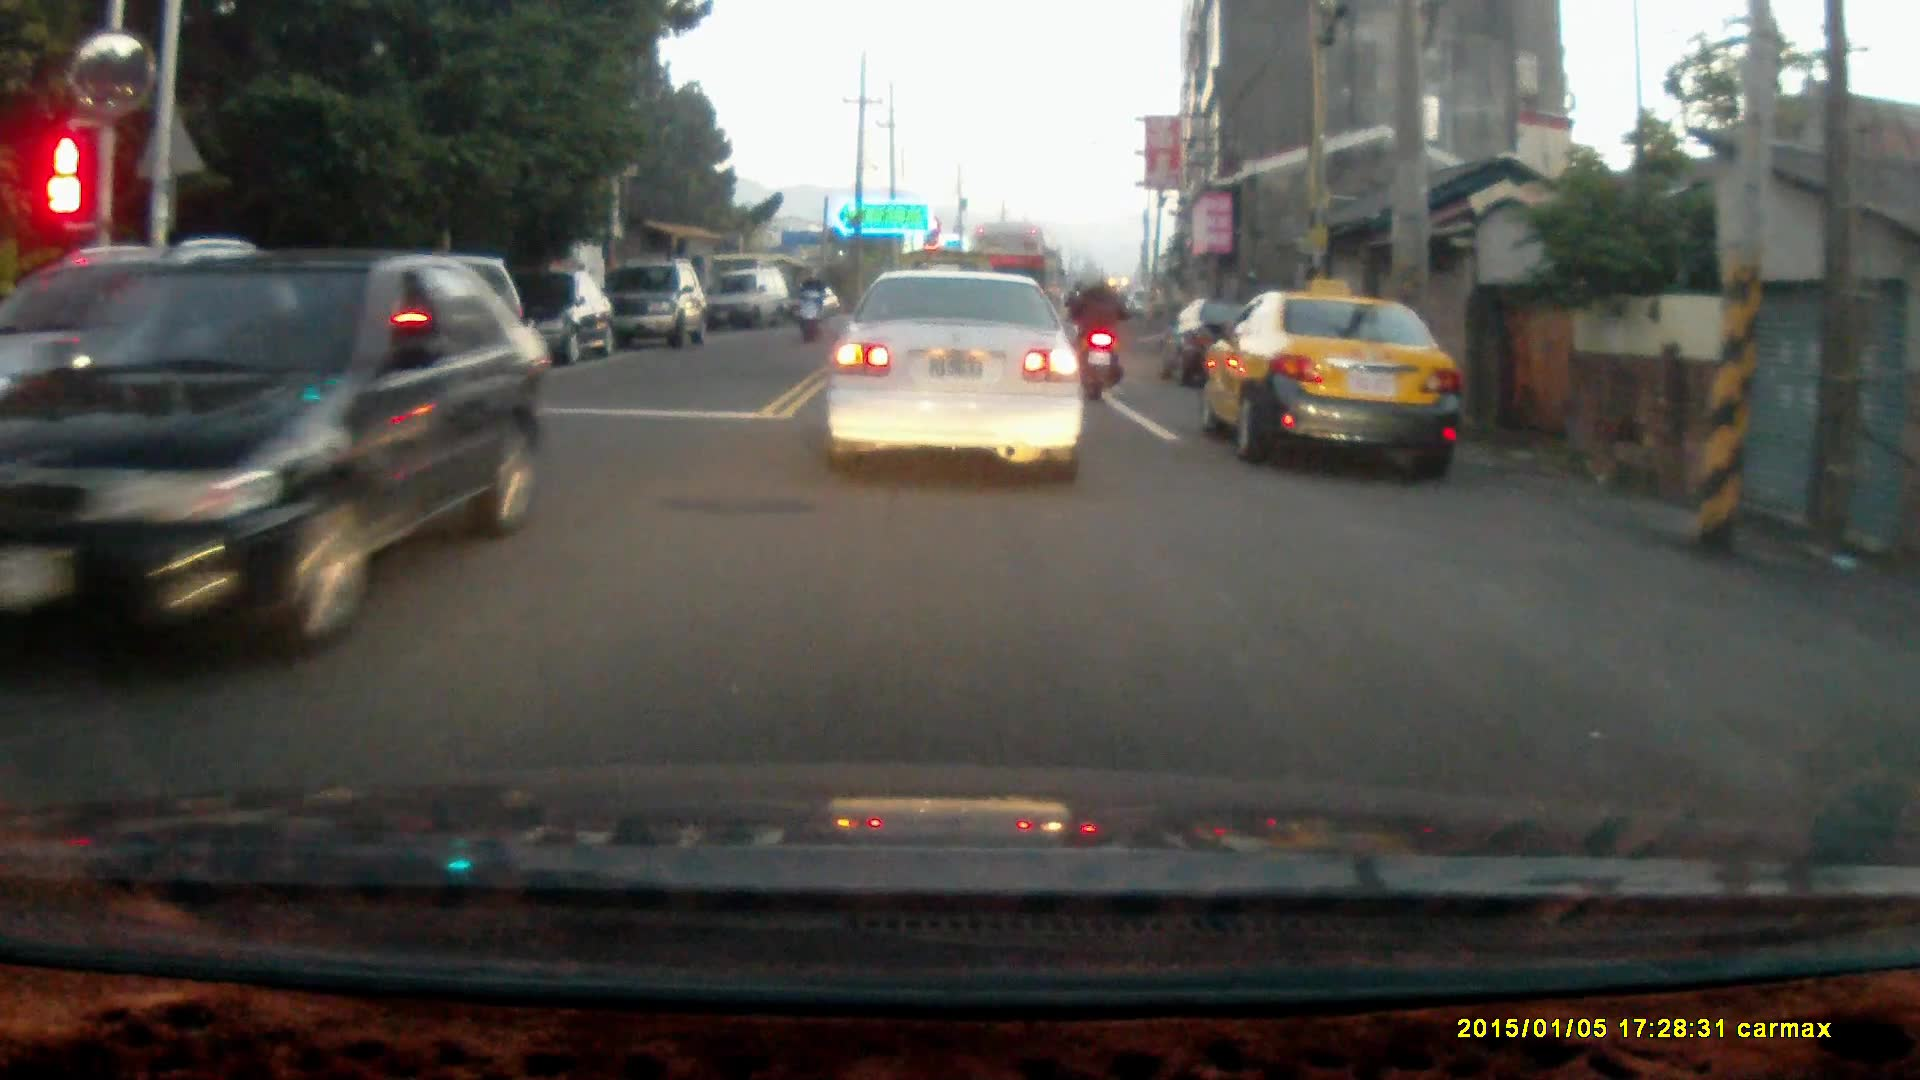rider: (1066, 261, 1127, 399), (791, 265, 826, 342)
vehicle: (1, 263, 548, 674), (821, 279, 1095, 496), (1208, 293, 1466, 476), (476, 267, 616, 370), (606, 261, 705, 355), (713, 272, 794, 332)
